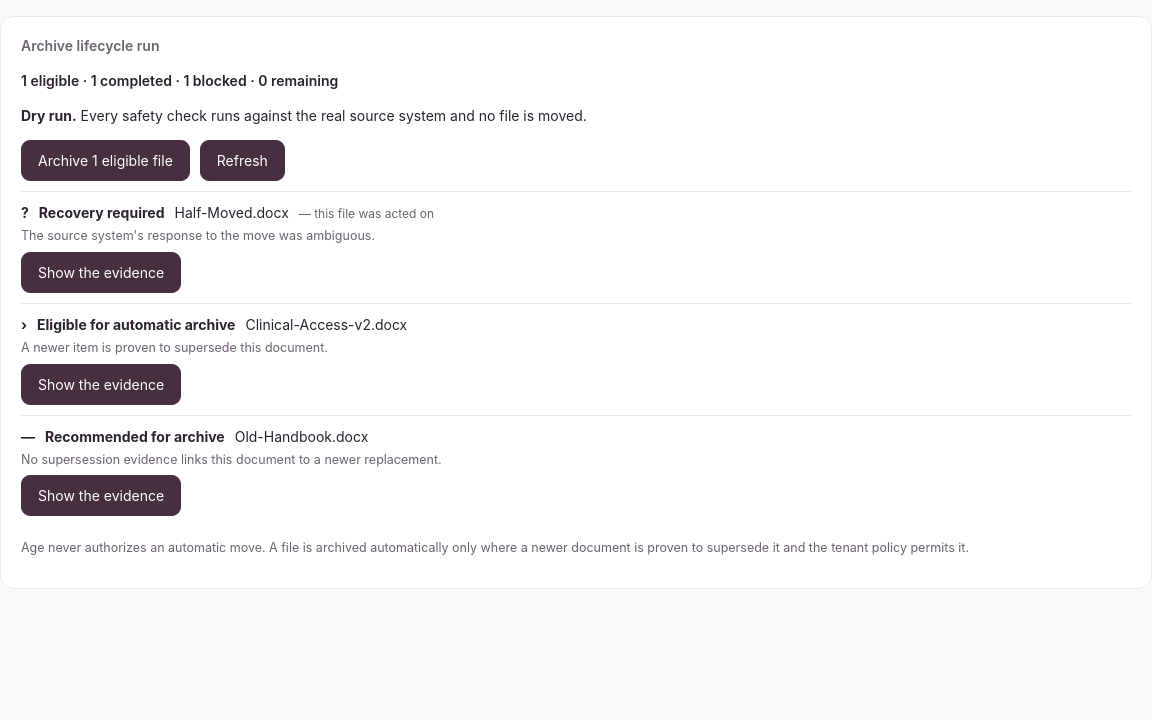
Scenario: the discovery archive lane › lets a person inspect the evidence before anything runs
The image size is (1152, 720).
Click the button "Show the evidence" below "Eligible for automatic archive": (101, 384) [21,364,181,404]
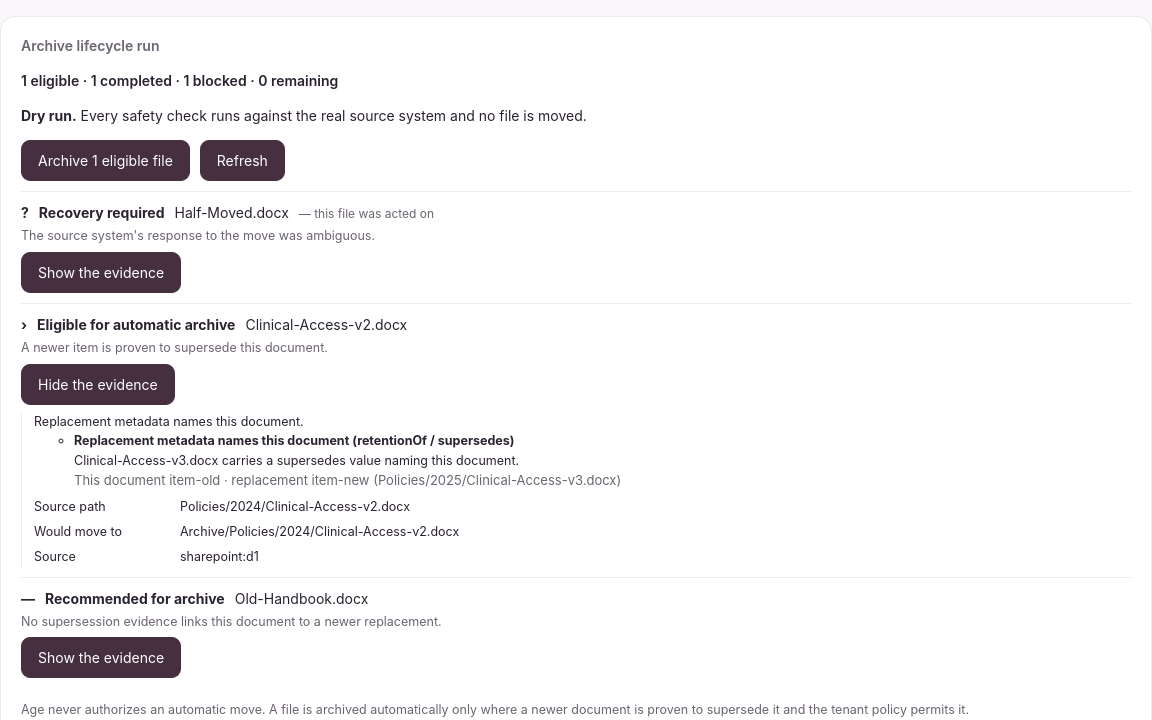
Expected: the text "carries a supersedes value naming this document" is shown, [74,453,519,468]
Expected: the text "item-old" is shown, [169,472,220,488]
Expected: the text "item-new" is shown, [312,472,370,488]
